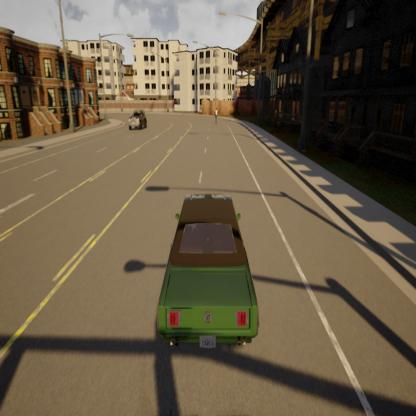Cars: (143, 178, 268, 366), (127, 107, 149, 135)
